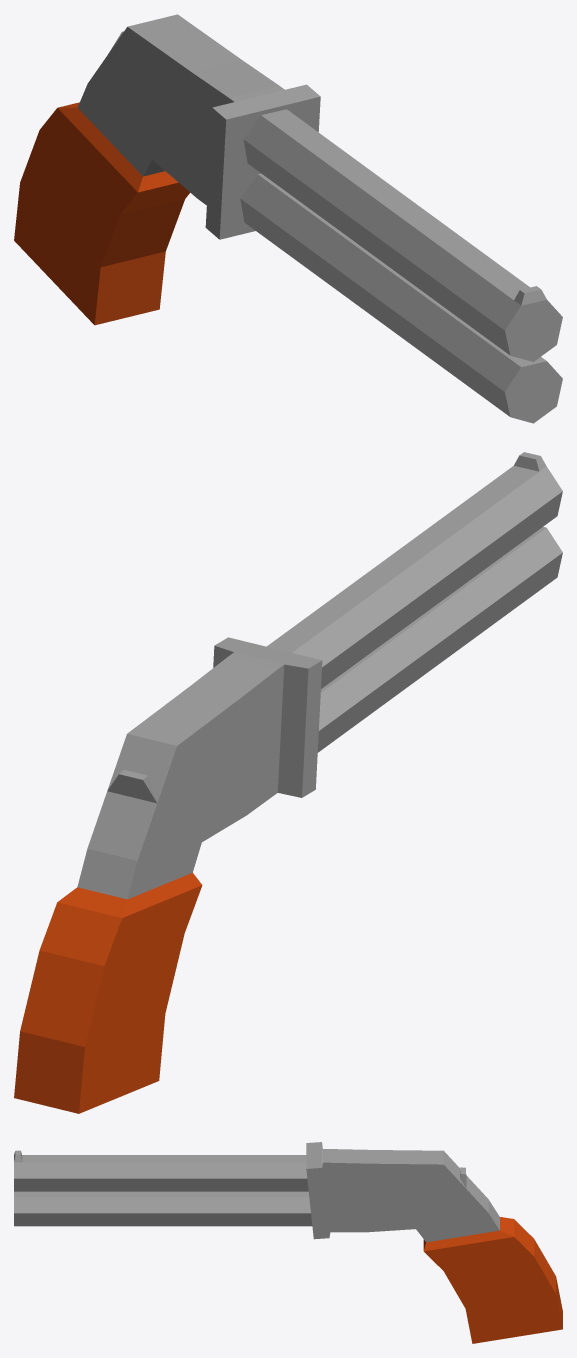
File: revolver.fbx
The picture shows the model from 3 angles, top to bottom: view 1: azimuth 30°, elevation 25°; view 2: azimuth 150°, elevation 25°; view 3: azimuth 270°, elevation 25°; orthographic projection. The views are drawn at different scales.
Visible parts, largest first — view 1: Plane; view 2: Plane; view 3: Plane.
Part boxes in pixels (bbox=[...]): Plane: bbox=[14, 14, 562, 423]; Plane: bbox=[14, 452, 562, 1113]; Plane: bbox=[14, 1142, 562, 1343].
Bounding box in the file's own units: 0.0498 × 0.163 × 0.4455.
